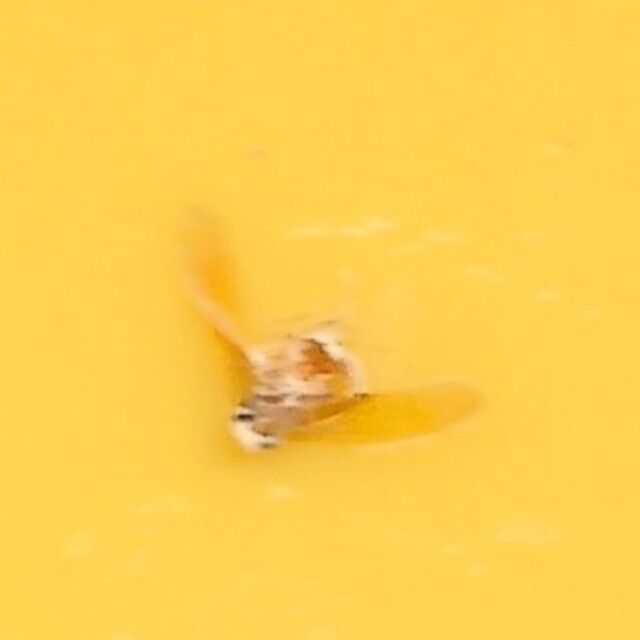Hemiptera: (165, 177, 475, 463)
